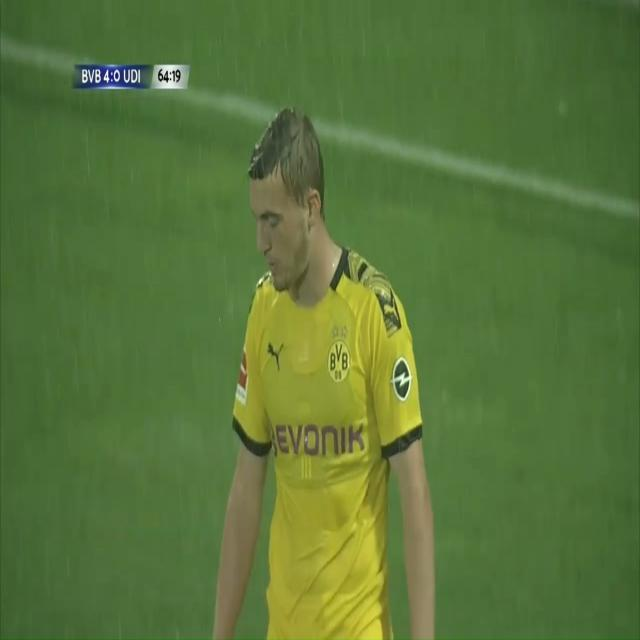player: (186, 55, 470, 640)
